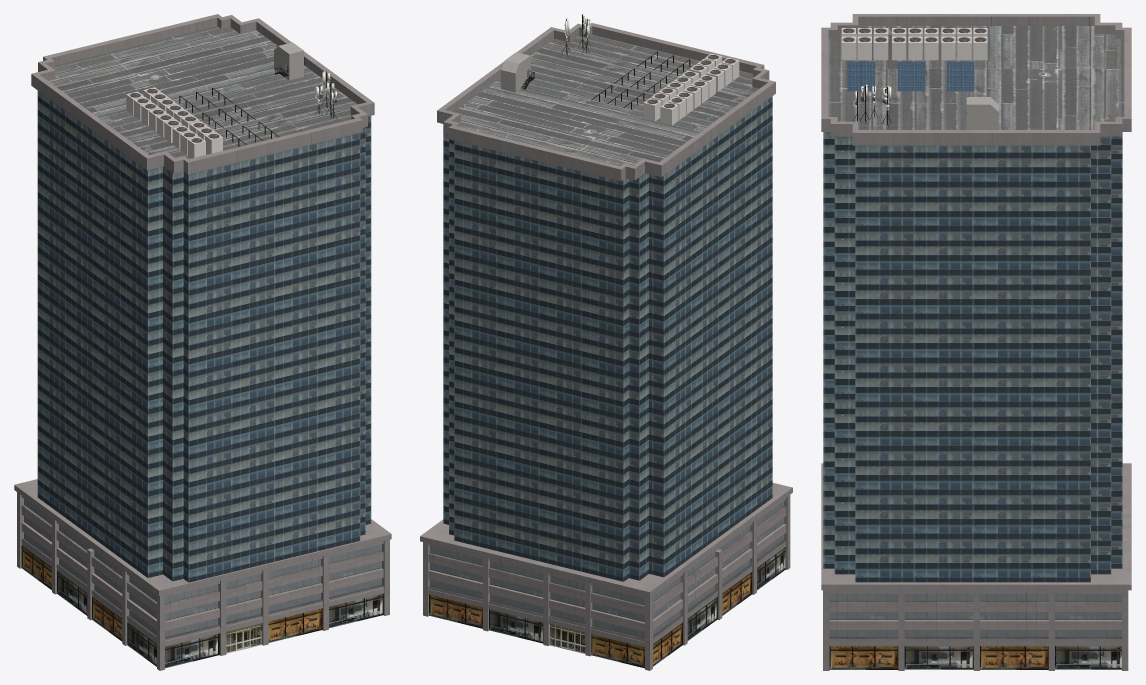
3 renders of one model, left to right at view 1: azimuth 30°, elevation 25°; view 2: azimuth 150°, elevation 25°; view 3: azimuth 270°, elevation 25°, orthographic. The views are drawn at different scales.
Visible parts, largest first — view 1: Object_49, Object_51; view 2: Object_49, Object_51; view 3: Object_49, Object_51.
Boxes of the visible parts, x1=… form: Object_49: x1=14, y1=14, x2=391, y2=670; Object_51: x1=126, y1=42, x2=336, y2=158; Object_49: x1=420, y1=23, x2=792, y2=670; Object_51: x1=501, y1=14, x2=739, y2=125; Object_49: x1=821, y1=14, x2=1131, y2=670; Object_51: x1=841, y1=28, x2=998, y2=129.
Bounding box in the file's own units: 2.24 × 4.86 × 2.41.
Materials: 2 (2 with a texture image).
